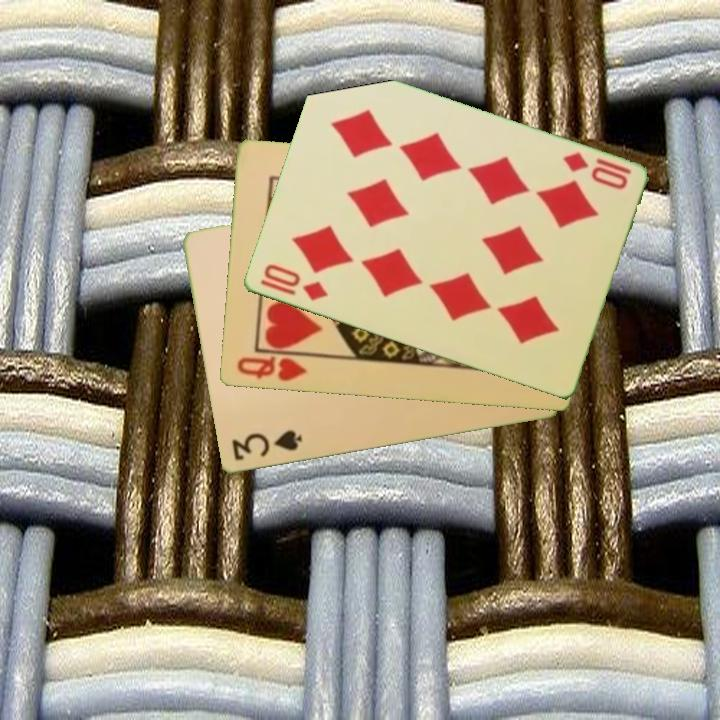10d: (256, 260, 331, 305), (559, 149, 634, 193)
3s: (228, 427, 305, 464)
Qh: (233, 353, 310, 384)
